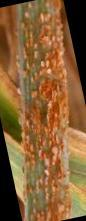Wheat: (18, 5, 63, 94), (22, 98, 68, 174), (25, 178, 69, 218)
